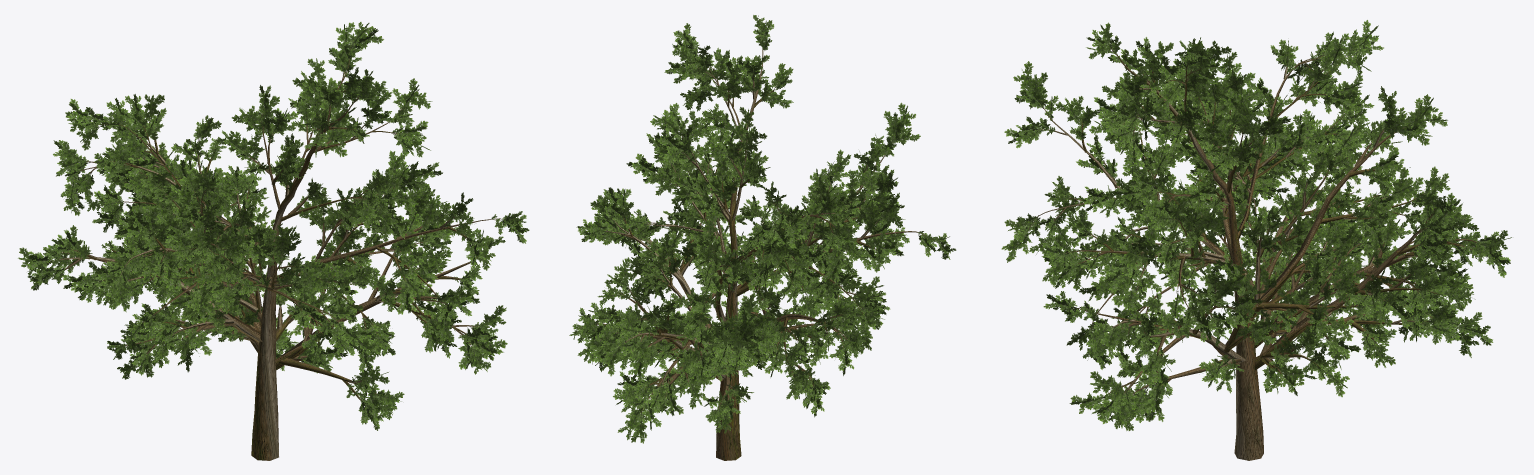
Rendered from oak_c.glb.
3 views of the same model, side by side, from view 1: azimuth 30°, elevation 25°; view 2: azimuth 150°, elevation 25°; view 3: azimuth 270°, elevation 25° (orthographic). The views are drawn at different scales.
Visible parts, largest first — view 1: Tree; view 2: Tree; view 3: Tree.
Boxes of the visible parts, x1,y1,x2,y2 form: Tree: (18,22,529,460); Tree: (569,15,956,460); Tree: (1001,20,1511,460).
Bounding box in the file's own units: 94.38 × 100 × 104.
Materials: 2 (2 with a texture image).
